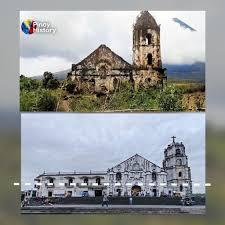daraga_church_daraga_albay: (107, 135, 195, 196)
